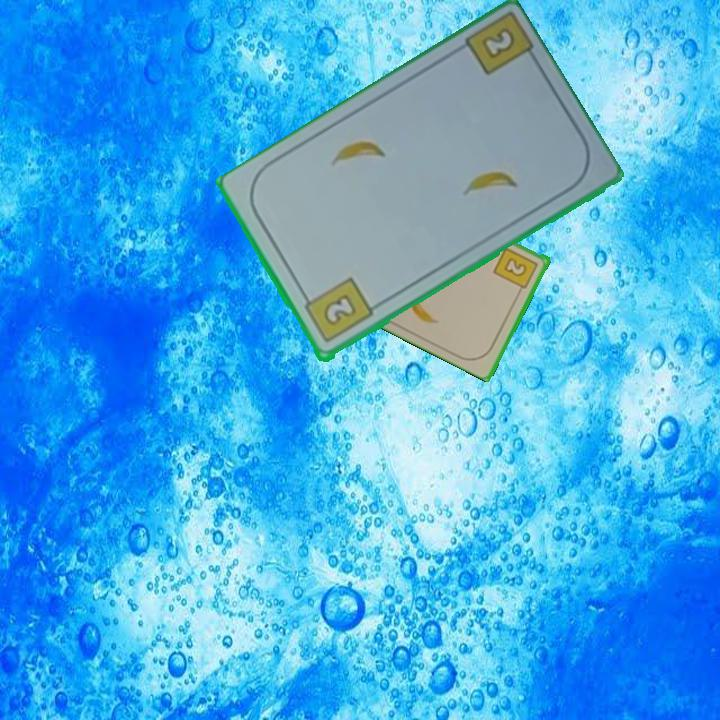2b: (299, 274, 376, 347), (490, 243, 541, 296), (477, 23, 518, 63)
